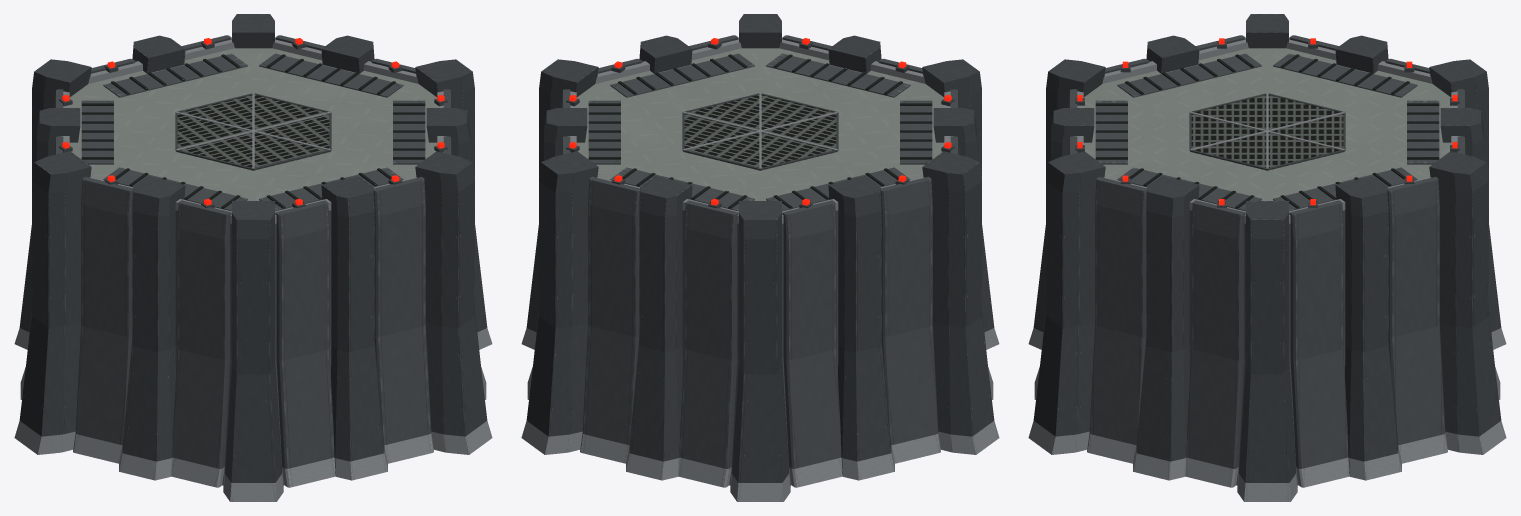
The model's file is pier.glb.
The picture shows the model from 3 angles, left to right: view 1: azimuth 30°, elevation 25°; view 2: azimuth 150°, elevation 25°; view 3: azimuth 270°, elevation 25°; orthographic projection.
Parts seen in each view (by area): view 1: pier-lod0-roof0, pier-lod0-base0, pier-lod0-floor0; view 2: pier-lod0-roof0, pier-lod0-base0, pier-lod0-floor0; view 3: pier-lod0-roof0, pier-lod0-base0, pier-lod0-floor0.
Boxes of the visible parts, x1=… form: pier-lod0-roof0: x1=32, y1=14, x2=474, y2=253; pier-lod0-base0: x1=14, y1=225, x2=492, y2=501; pier-lod0-floor0: x1=32, y1=103, x2=474, y2=374; pier-lod0-roof0: x1=539, y1=14, x2=981, y2=253; pier-lod0-base0: x1=521, y1=225, x2=999, y2=501; pier-lod0-floor0: x1=539, y1=103, x2=981, y2=374; pier-lod0-roof0: x1=1046, y1=14, x2=1488, y2=253; pier-lod0-base0: x1=1028, y1=225, x2=1506, y2=501; pier-lod0-floor0: x1=1046, y1=103, x2=1488, y2=374.
Size of what is drawn, in the model's own units: 70.84 by 40.8 by 64.5.
Materials: 7 (7 with a texture image).
